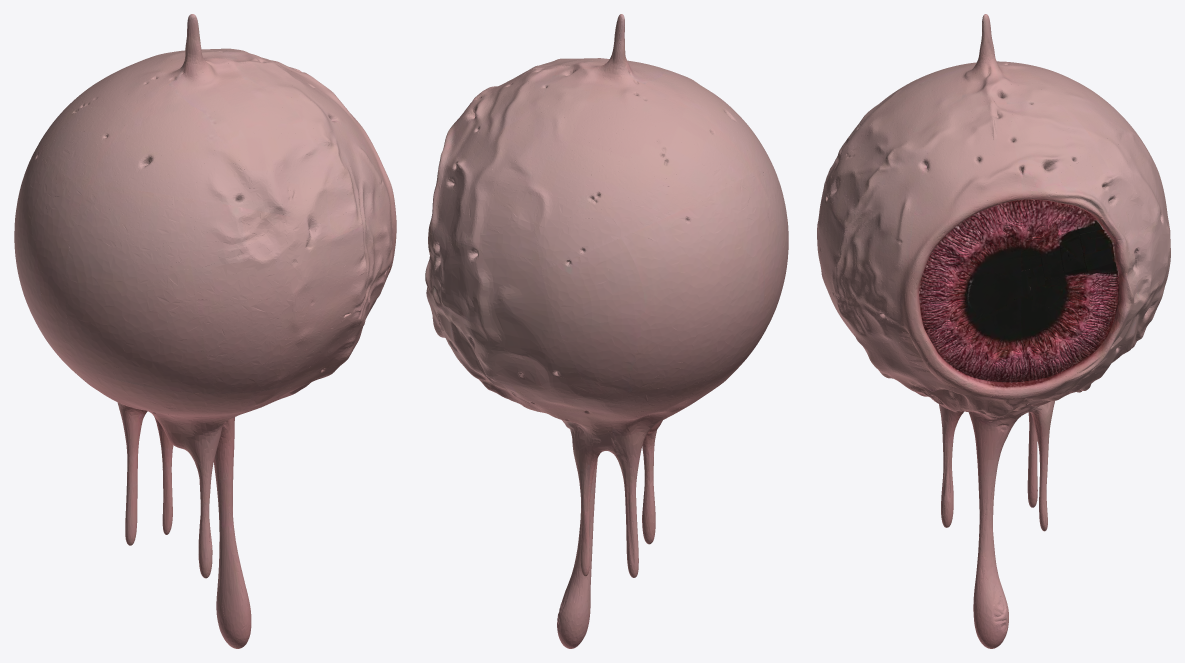
The model's file is eyeballp.glb.
The picture shows the model from 3 angles, left to right: view 1: azimuth 30°, elevation 25°; view 2: azimuth 150°, elevation 25°; view 3: azimuth 270°, elevation 25°; orthographic projection. The views are drawn at different scales.
Parts seen in each view (by area): view 1: tripo_node_a3c2b44c-5064-46fa-9713-617f9bdedd3e; view 2: tripo_node_a3c2b44c-5064-46fa-9713-617f9bdedd3e; view 3: tripo_node_a3c2b44c-5064-46fa-9713-617f9bdedd3e.
Part boxes in pixels (x1=…): tripo_node_a3c2b44c-5064-46fa-9713-617f9bdedd3e: x1=14, y1=14, x2=396, y2=648; tripo_node_a3c2b44c-5064-46fa-9713-617f9bdedd3e: x1=425, y1=14, x2=788, y2=648; tripo_node_a3c2b44c-5064-46fa-9713-617f9bdedd3e: x1=817, y1=14, x2=1170, y2=648.
Size of the model in its own units: 0.494 by 0.9795 by 0.5136.
1 material, 1 textured.
